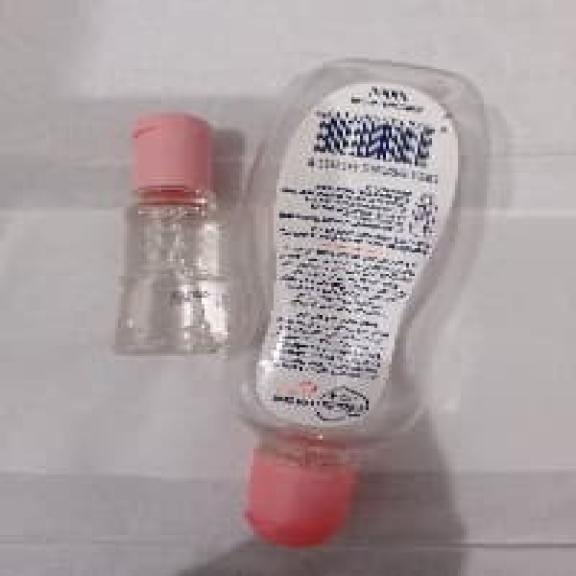Plastik: (231, 60, 487, 546), (116, 112, 230, 352)
